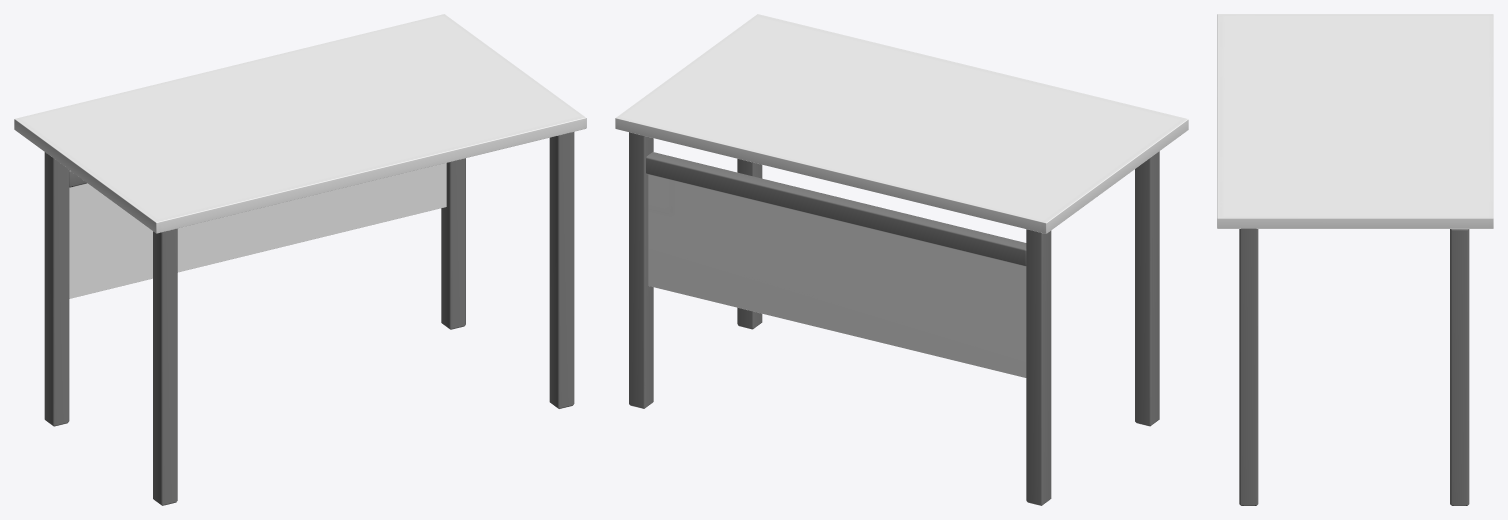
File: pc_table_top_1.fbx
3 renders of one model, left to right at view 1: azimuth 30°, elevation 25°; view 2: azimuth 150°, elevation 25°; view 3: azimuth 270°, elevation 25°, orthographic. The views are drawn at different scales.
Parts seen in each view (by area): view 1: pc_table_top, steel_table_part, pc_table_stand1, pc_table_stand, pc_table_stand3, pc_table_stand2; view 2: pc_table_top, steel_table_part, pc_table_stand4, pc_table_stand, pc_table_stand3, pc_table_stand2, pc_table_stand1; view 3: pc_table_top, pc_table_stand1, pc_table_stand2.
Part boxes in pixels (bbox=[...]): pc_table_top: bbox=[14, 14, 586, 233]; steel_table_part: bbox=[69, 163, 446, 298]; pc_table_stand1: bbox=[549, 132, 574, 408]; pc_table_stand: bbox=[44, 152, 69, 426]; pc_table_stand3: bbox=[153, 228, 177, 505]; pc_table_stand2: bbox=[441, 158, 465, 329]; pc_table_top: bbox=[615, 14, 1188, 233]; steel_table_part: bbox=[648, 174, 1026, 377]; pc_table_stand4: bbox=[646, 152, 1026, 266]; pc_table_stand: bbox=[1026, 229, 1051, 505]; pc_table_stand3: bbox=[1135, 151, 1159, 426]; pc_table_stand2: bbox=[629, 132, 653, 408]; pc_table_stand1: bbox=[737, 159, 762, 329]; pc_table_top: bbox=[1217, 14, 1493, 228]; pc_table_stand1: bbox=[1239, 228, 1258, 505]; pc_table_stand2: bbox=[1450, 229, 1469, 505].
Size of the model in its own units: 116 by 76.3 by 66.24.
Materials: 1 (1 with a texture image).
